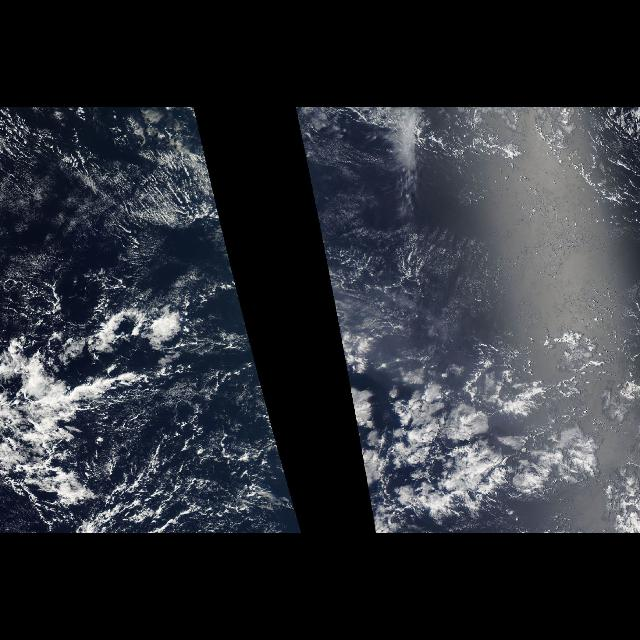Flower: (339, 332, 606, 518)
